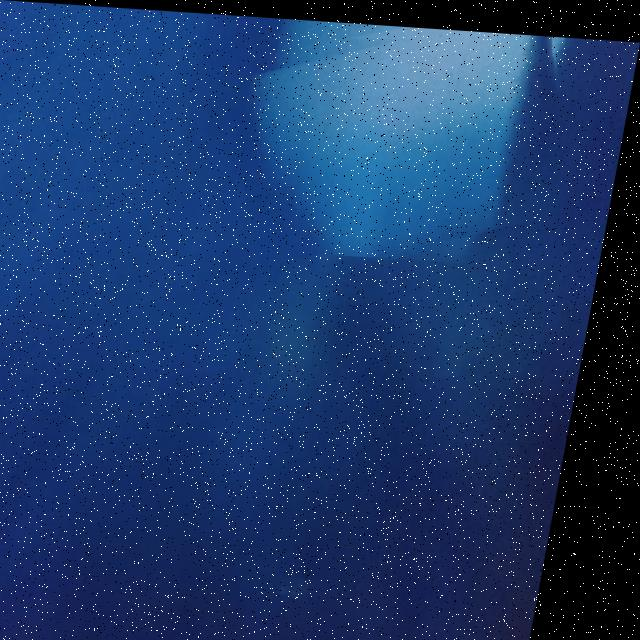litter: (221, 13, 584, 261)
